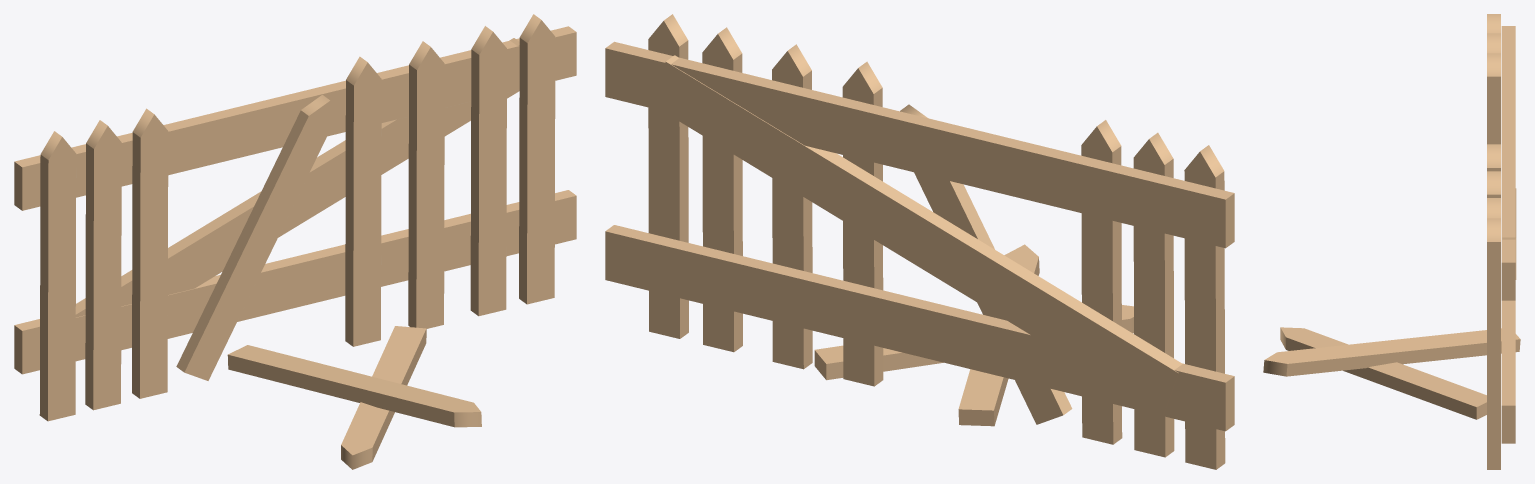
File: ZaunC.fbx
3 views of the same model, side by side, from view 1: azimuth 30°, elevation 25°; view 2: azimuth 150°, elevation 25°; view 3: azimuth 270°, elevation 25° (orthographic). The views are drawn at different scales.
Visible parts, largest first — view 1: Planke1, Planke2, Pfahl10, Pfahl1, Pfahl7, Pfahl16, Pfahl4, Pfahl5, Pfahl2, Pfahl17, Planke3, Pfahl9 (+1 smaller); view 2: Planke1, Planke2, Planke3, Pfahl17, Pfahl4, Pfahl1, Pfahl5, Pfahl2, Pfahl16, Pfahl7, Pfahl10, Pfahl9 (+1 smaller); view 3: Pfahl9, Pfahl8, Planke1, Pfahl4, Planke2, Pfahl2, Pfahl7, Pfahl16, Pfahl1, Pfahl5, Pfahl17.
Boxes of the visible parts, bbox=[...] form: Planke1: bbox=[14, 26, 576, 210]; Planke2: bbox=[14, 190, 576, 374]; Pfahl10: bbox=[176, 95, 332, 380]; Pfahl1: bbox=[85, 120, 121, 410]; Pfahl7: bbox=[345, 56, 381, 346]; Pfahl16: bbox=[408, 41, 444, 328]; Pfahl4: bbox=[519, 14, 555, 304]; Pfahl5: bbox=[470, 26, 506, 316]; Pfahl2: bbox=[132, 108, 168, 398]; Pfahl17: bbox=[39, 131, 76, 421]; Planke3: bbox=[75, 38, 519, 317]; Pfahl9: bbox=[227, 345, 481, 427]; Planke1: bbox=[605, 41, 1234, 248]; Planke2: bbox=[605, 225, 1234, 431]; Planke3: bbox=[650, 55, 1182, 415]; Pfahl17: bbox=[1184, 145, 1225, 469]; Pfahl4: bbox=[648, 14, 688, 338]; Pfahl1: bbox=[1133, 132, 1174, 457]; Pfahl5: bbox=[702, 27, 742, 352]; Pfahl2: bbox=[1081, 120, 1122, 444]; Pfahl16: bbox=[772, 44, 812, 369]; Pfahl7: bbox=[842, 61, 883, 386]; Pfahl10: bbox=[900, 104, 1072, 424]; Pfahl9: bbox=[958, 244, 1039, 426]; Pfahl9: bbox=[1263, 328, 1520, 376]; Pfahl8: bbox=[1280, 327, 1486, 419]; Planke1: bbox=[1501, 26, 1515, 300]; Pfahl4: bbox=[1487, 218, 1500, 469]; Planke2: bbox=[1501, 300, 1515, 443]; Pfahl2: bbox=[1487, 53, 1500, 144]; Pfahl7: bbox=[1487, 144, 1500, 171]; Pfahl16: bbox=[1487, 171, 1500, 197]; Pfahl1: bbox=[1487, 33, 1500, 53]; Pfahl5: bbox=[1487, 198, 1500, 218]; Pfahl17: bbox=[1487, 14, 1500, 33].
Size of the model in its own units: 200 by 99.75 by 91.93.
Materials: 1 (1 with a texture image).
